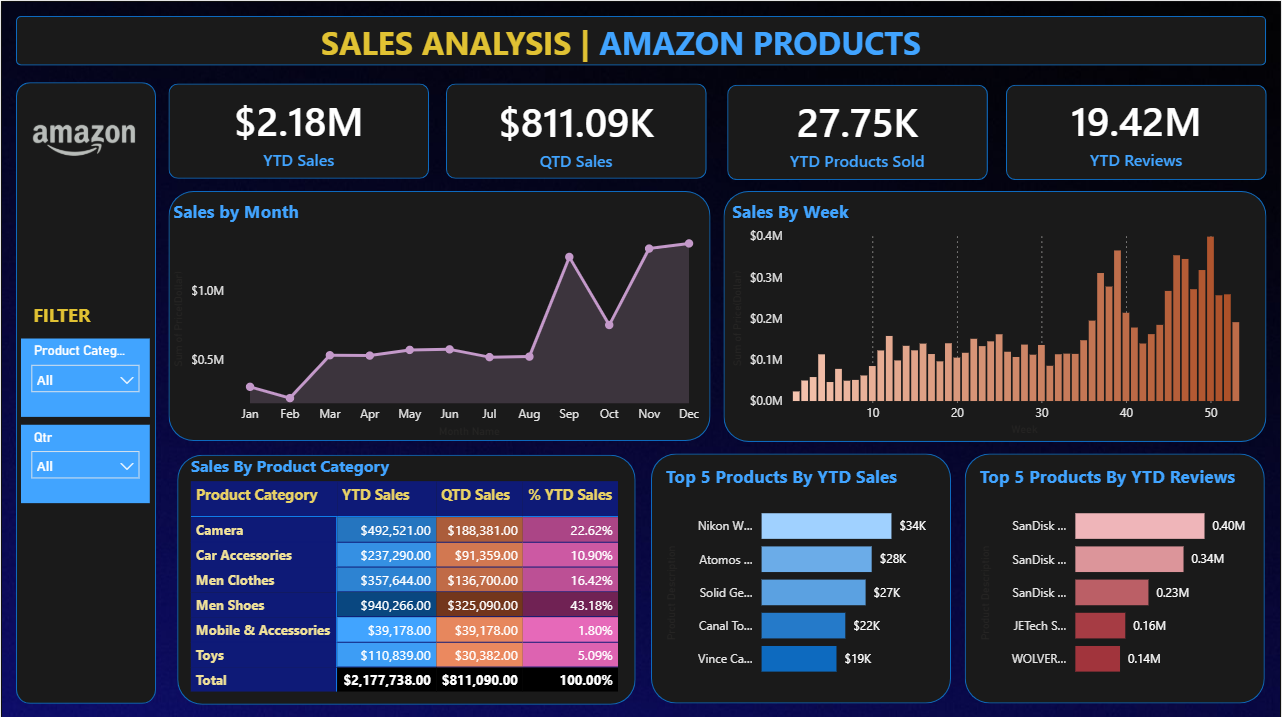

This screenshot's page, from the dashboard's own definition file:
{"tool":"powerbi","page":{"name":"Page 1","canvas":[1280,720],"ordinal":0},"visuals":[{"type":"shape","box":[445.2,82,260.6,95.3],"z":0,"group":"g1"},{"type":"shape","box":[15.1,15.1,1250.1,49.4],"z":0},{"type":"shape","box":[167.7,82,260.6,95.3],"z":1000,"group":"g1"},{"type":"textbox","box":[300.5,15.1,625.7,54.9],"z":1000},{"type":"card","fields":{"Values":["Amazon_Data.YTD Sales"]},"box":[167.7,82,260.6,95.3],"z":2000,"group":"g1"},{"type":"shape","box":[15.1,81,140,621.6],"z":2000},{"type":"card","fields":{"Values":["Amazon_Data.QTD Sales"]},"box":[445.2,83.2,260.6,95.3],"z":3000,"group":"g1"},{"type":"group","id":"g1","title":"Group 1","box":[167.7,82,1097.9,96.5],"z":3000},{"type":"shape","box":[726.3,83.2,260.6,95.3],"z":4000,"group":"g1"},{"type":"shape","box":[167.7,190.6,542,250],"z":4000},{"type":"shape","box":[1005,83.2,260.6,95.3],"z":5000,"group":"g1"},{"type":"areaChart","title":"Sales by Month ","fields":{"Category":["Date Table.Month Name"],"Y":["Sum(Amazon_Data.Price(Dollar))"]},"box":[167.7,199.1,541.7,242.5],"z":5000},{"type":"card","fields":{"Values":["Amazon_Data.YTD Products Sold"]},"box":[726.3,83.2,260.6,95.3],"z":6000,"group":"g1"},{"type":"shape","box":[722.7,190.6,542.9,250.9],"z":6000},{"type":"card","fields":{"Values":["Amazon_Data.YTD Reviews"]},"box":[1005,82,260.6,95.3],"z":7000,"group":"g1"},{"type":"columnChart","title":"Sales By Week","fields":{"Category":["Date Table.Week"],"Y":["Sum(Amazon_Data.Price(Dollar))"]},"box":[726.3,199.1,538.1,241.3],"z":7000},{"type":"shape","box":[176.7,453.3,458.3,250],"z":7001},{"type":"pivotTable","title":"Sales By Product Category","fields":{"Rows":["Amazon_Data.Product Category"],"Values":["Amazon_Data.YTD Sales1","Amazon_Data.QTD Sales","Amazon_Data.YTD Sales"]},"box":[185,453.3,443.3,250],"z":7002},{"type":"shape","box":[650,452.5,300,250],"z":7003},{"type":"shape","box":[963.8,452.5,300,250],"z":7004}]}

Visuals, with their boxes in screenshot pixels (x1, y1, x2, y2), scaled from the page's 1280x720 canvas onto the 1282x717 screenshot:
shape: {"left": 446, "top": 82, "right": 707, "bottom": 177}
shape: {"left": 15, "top": 15, "right": 1267, "bottom": 64}
shape: {"left": 168, "top": 82, "right": 429, "bottom": 177}
textbox: {"left": 301, "top": 15, "right": 928, "bottom": 70}
card - Amazon_Data.YTD Sales: {"left": 168, "top": 82, "right": 429, "bottom": 177}
shape: {"left": 15, "top": 81, "right": 155, "bottom": 700}
card - Amazon_Data.QTD Sales: {"left": 446, "top": 83, "right": 707, "bottom": 178}
"Group 1" group: {"left": 168, "top": 82, "right": 1268, "bottom": 178}
shape: {"left": 727, "top": 83, "right": 988, "bottom": 178}
shape: {"left": 168, "top": 190, "right": 711, "bottom": 439}
shape: {"left": 1007, "top": 83, "right": 1268, "bottom": 178}
"Sales by Month " areaChart: {"left": 168, "top": 198, "right": 711, "bottom": 440}
card - Amazon_Data.YTD Products Sold: {"left": 727, "top": 83, "right": 988, "bottom": 178}
shape: {"left": 724, "top": 190, "right": 1268, "bottom": 440}
card - Amazon_Data.YTD Reviews: {"left": 1007, "top": 82, "right": 1268, "bottom": 177}
"Sales By Week" columnChart: {"left": 727, "top": 198, "right": 1266, "bottom": 439}
shape: {"left": 177, "top": 451, "right": 636, "bottom": 700}
"Sales By Product Category" pivotTable: {"left": 185, "top": 451, "right": 629, "bottom": 700}
shape: {"left": 651, "top": 451, "right": 951, "bottom": 700}
shape: {"left": 965, "top": 451, "right": 1266, "bottom": 700}
